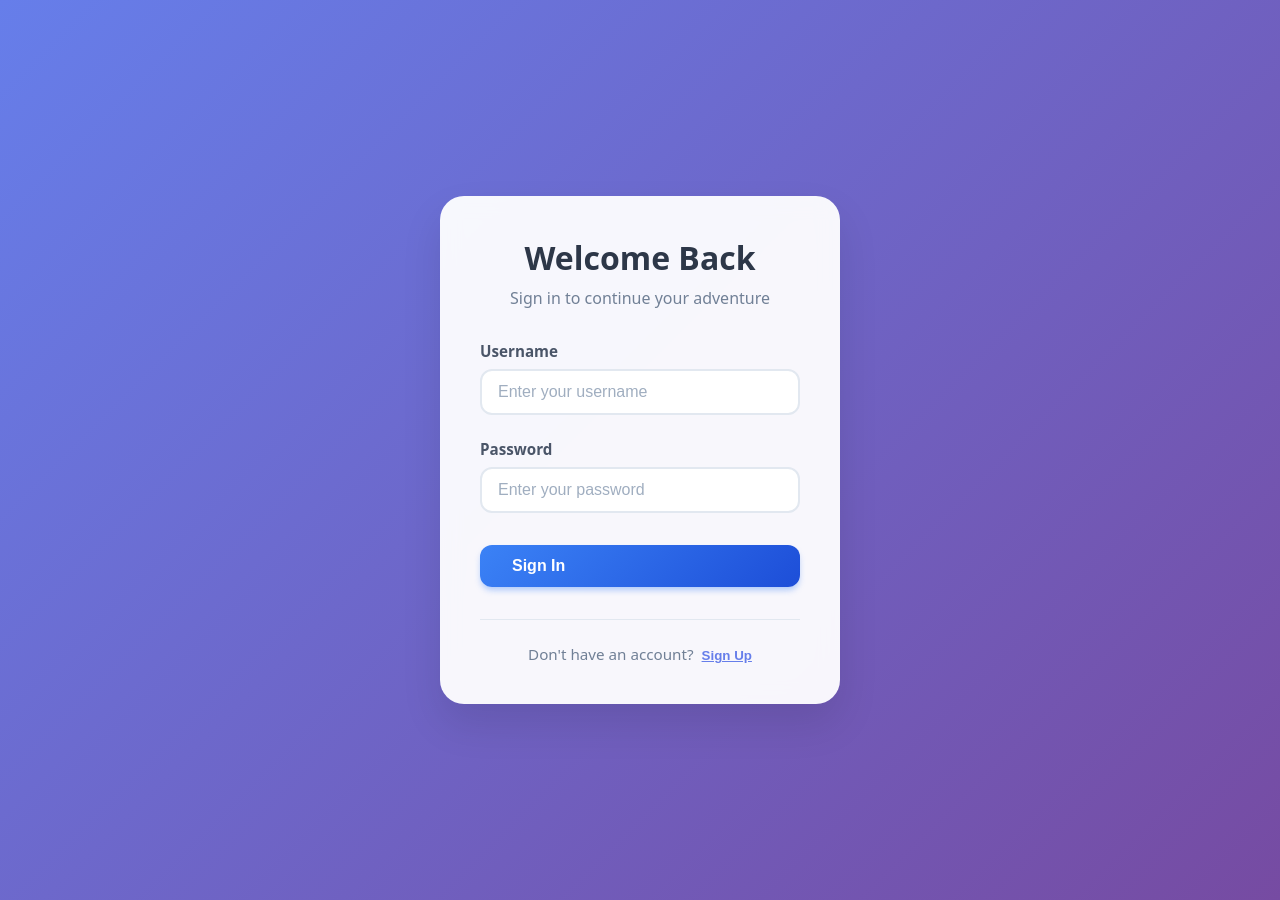
Test: LoginPage Frontend Tests › UI State Changes › should toggle between login and signup modes
Expected: the heading "Welcome Back" is shown, [524,236,756,279]
Expected: the field labelled "Confirm Password" is not shown
// Toggle to signup
Click the button "Sign Up". click: (727, 656)
box: [702,648,752,663]
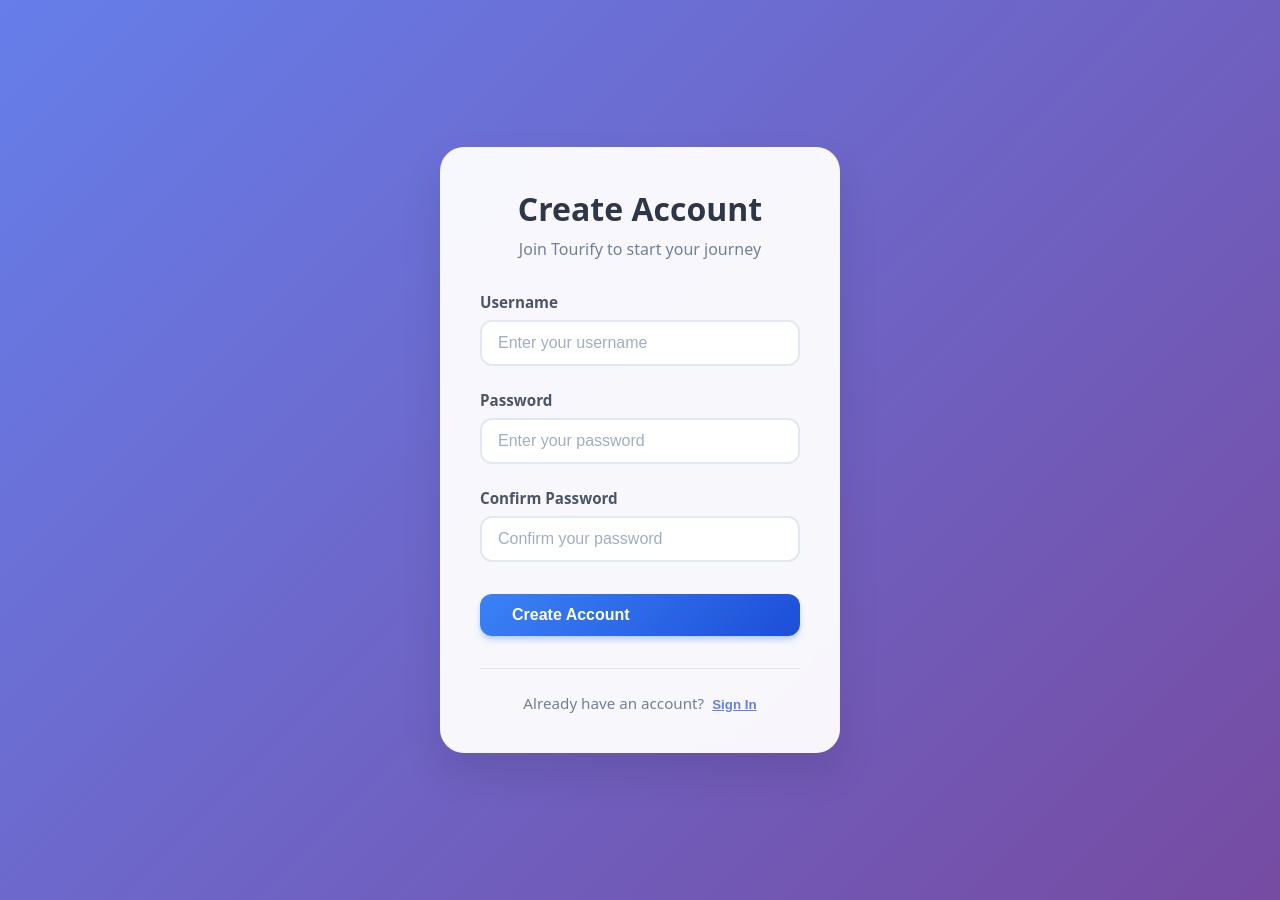
Expected: the heading "Create Account" is shown, [518,187,762,230]
Expected: the password field labelled "Confirm Password" is shown, [480,516,800,562]
// Toggle back to login
Click the button "Sign In". click: (734, 704)
box: [712,697,757,712]
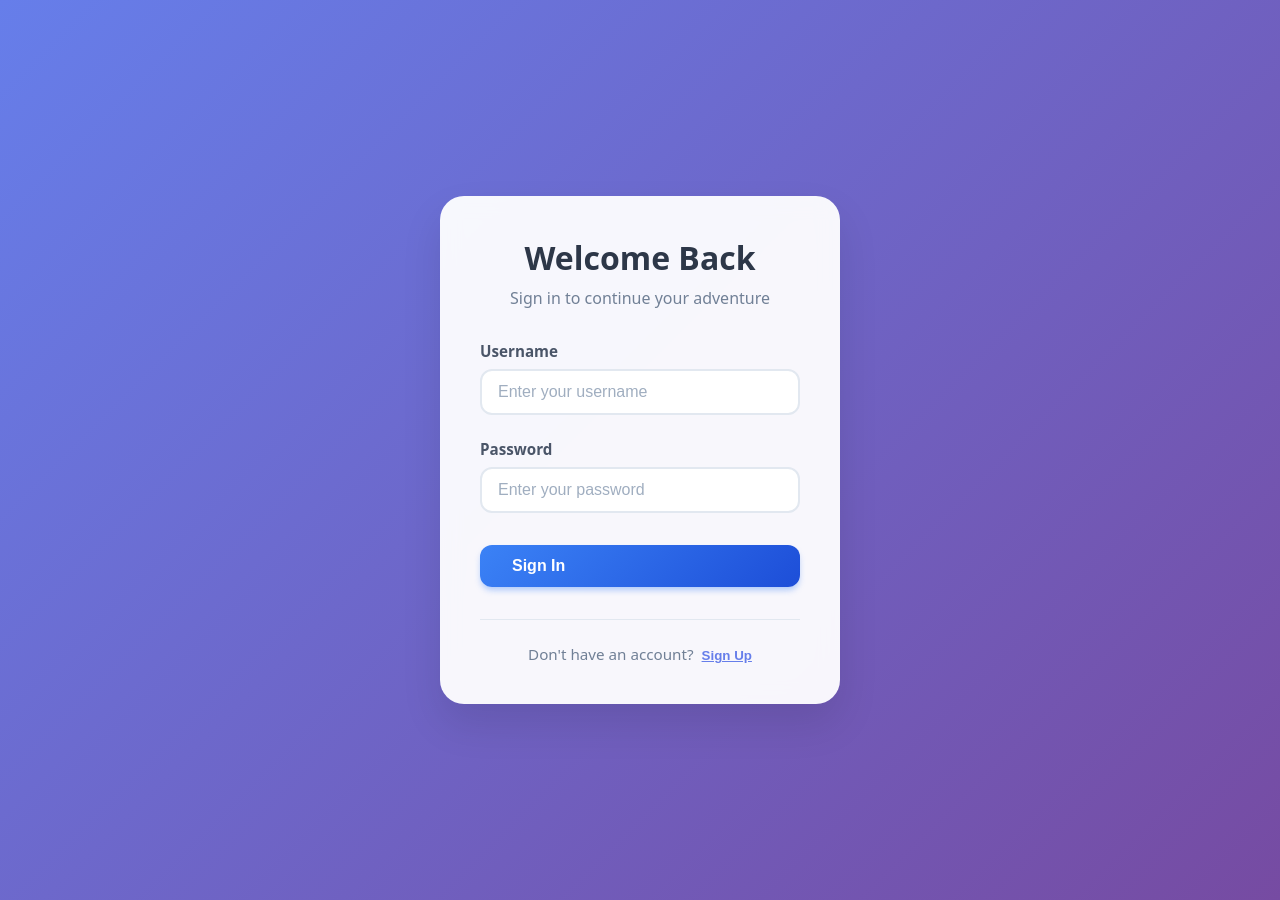
Expected: the heading "Welcome Back" is shown, [524,236,756,279]
Expected: the label labelled "Confirm Password" is gone
